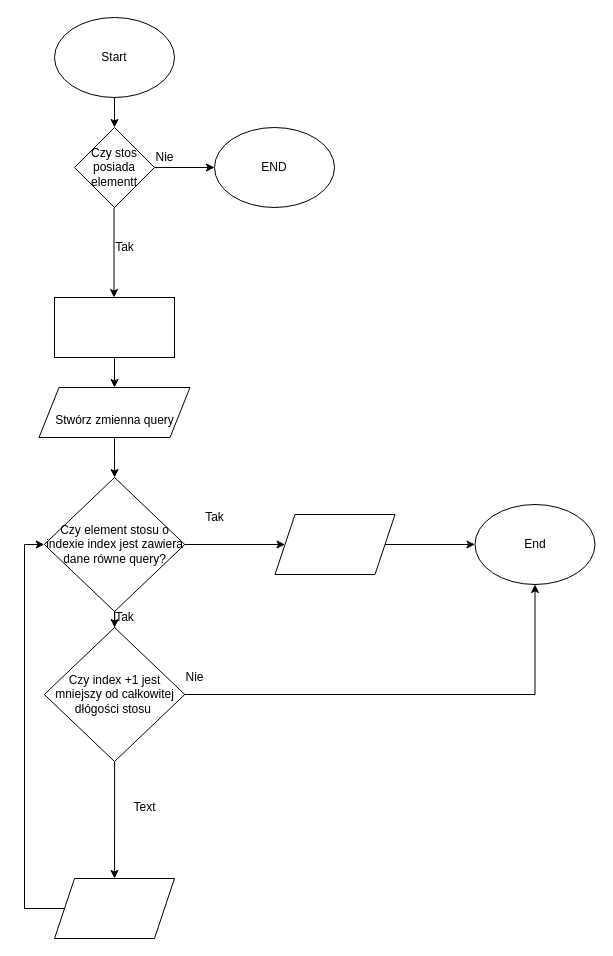
This 613x956 diagram has some shape labels left out. The centre of each missing label's shape, as x and y in pixels:
Stwórz zmienną index = 0: pixel 114 327
Zwiększ index o 1: pixel 114 908
Zwróć index: pixel 334 544
